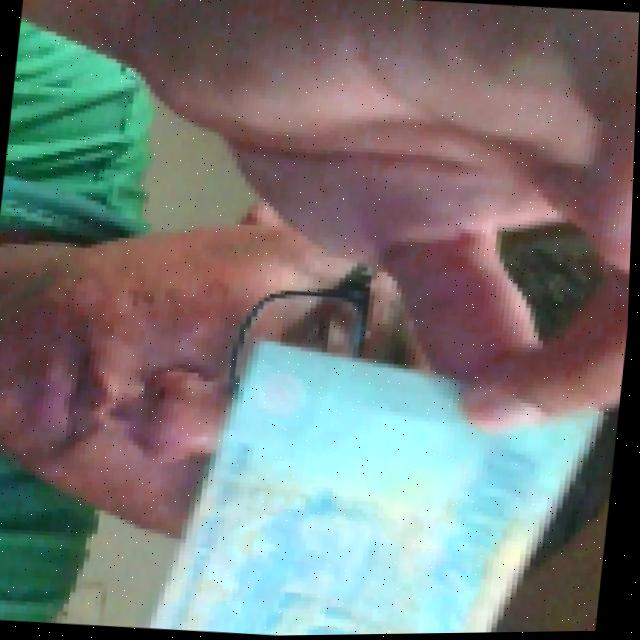20 000 VND: (90, 319, 629, 639)
